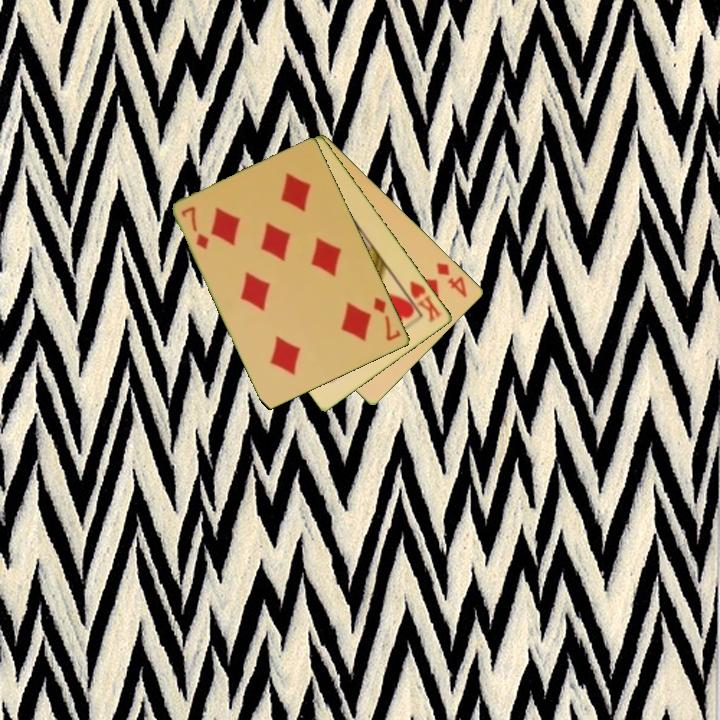4d: (433, 259, 470, 301)
7d: (370, 294, 404, 344), (178, 203, 212, 253)
Kh: (398, 277, 445, 325)
